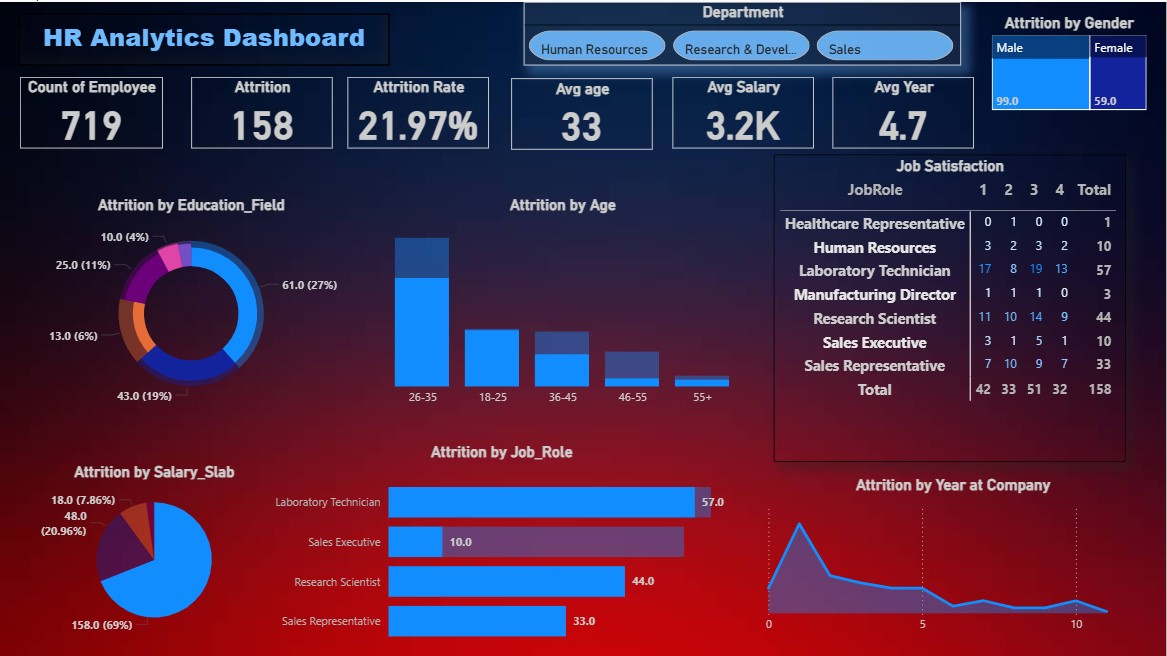

Layout of this report page (visuals, bound fields, positions):
{"tool":"powerbi","page":{"name":"Page 1","canvas":[1280,720],"ordinal":0},"visuals":[{"type":"card","title":"Count of Employee","fields":{"Values":["CountNonNull(HR_Analytics.EmpID)"]},"box":[21.4,82.7,156.8,78.4],"z":0},{"type":"card","title":"Attrition","fields":{"Values":["Sum(HR_Analytics.Attrition)"]},"box":[209.5,82.7,155.4,78.4],"z":1000},{"type":"card","title":"Attrition Rate","fields":{"Values":["HR_Analytics.AttritionRate"]},"box":[382,82.7,155.4,78.4],"z":2000},{"type":"card","title":"Avg age","fields":{"Values":["Avg(HR_Analytics.Age)"]},"box":[561.6,84.1,155.4,78.4],"z":3000},{"type":"card","title":"Avg Year","fields":{"Values":["Avg(HR_Analytics.YearsAtCompany)"]},"box":[913.7,82.7,155.4,78.4],"z":4000},{"type":"card","title":"Avg Salary","fields":{"Values":["Avg(HR_Analytics.MonthlyIncome)"]},"box":[738.3,82.3,155.1,78.2],"z":5000},{"type":"donutChart","title":" Attrition by Education_Field","fields":{"Category":["HR_Analytics.EducationField"],"Y":["Sum(HR_Analytics.Attrition)"]},"box":[21.4,212.4,376.3,239.5],"z":6000},{"type":"columnChart","title":" Attrition by Age","fields":{"Category":["HR_Analytics.AgeGroup"],"Y":["Sum(HR_Analytics.Attrition)"]},"box":[397.7,212.4,440.4,239.5],"z":7000},{"type":"pivotTable","title":"Job Satisfaction","fields":{"Rows":["HR_Analytics.JobRole"],"Columns":["HR_Analytics.JobSatisfaction"],"Values":["Sum(HR_Analytics.Attrition)"]},"box":[849.5,166.8,386.3,337.8],"z":8000},{"type":"pieChart","title":" Attrition by Salary_Slab","fields":{"Category":["HR_Analytics.SalarySlab"],"Y":["Sum(HR_Analytics.Attrition)"]},"box":[20.6,505,297.8,196.2],"z":9000},{"type":"clusteredBarChart","title":" Attrition by Job_Role","fields":{"Y":["Sum(HR_Analytics.Attrition)"],"Category":["HR_Analytics.JobRole"]},"box":[286.8,483,528.3,237.4],"z":10000},{"type":"areaChart","title":" Attrition by Year at Company","fields":{"Category":["HR_Analytics.YearsAtCompany"],"Y":["Sum(HR_Analytics.Attrition)"]},"box":[828.8,520.1,435,181.1],"z":11000},{"type":"treemap","title":" Attrition by Gender","fields":{"Group":["HR_Analytics.Gender"],"Values":["Sum(HR_Analytics.Attrition)"]},"box":[1084.1,12.3,179.8,111.1],"z":12000},{"type":"advancedSlicerVisual","fields":{"Values":["HR_Analytics.Department"]},"box":[575,0,480.3,70],"z":13000},{"type":"textbox","box":[20.6,12.3,407.5,57.6],"z":13001}]}

Visuals, with their boxes in screenshot pixels (x1, y1, x2, y2), scaled from the page's 1280x720 canvas onto the 1167x656 screenshot:
"Count of Employee" card: <bbox>20, 75, 162, 147</bbox>
"Attrition" card: <bbox>191, 75, 333, 147</bbox>
"Attrition Rate" card: <bbox>348, 75, 490, 147</bbox>
"Avg age" card: <bbox>512, 77, 654, 148</bbox>
"Avg Year" card: <bbox>833, 75, 975, 147</bbox>
"Avg Salary" card: <bbox>673, 75, 815, 146</bbox>
" Attrition by Education_Field" donutChart: <bbox>20, 194, 363, 412</bbox>
" Attrition by Age" columnChart: <bbox>363, 194, 764, 412</bbox>
"Job Satisfaction" pivotTable: <bbox>775, 152, 1127, 460</bbox>
" Attrition by Salary_Slab" pieChart: <bbox>19, 460, 290, 639</bbox>
" Attrition by Job_Role" clusteredBarChart: <bbox>261, 440, 743, 655</bbox>
" Attrition by Year at Company" areaChart: <bbox>756, 474, 1152, 639</bbox>
" Attrition by Gender" treemap: <bbox>988, 11, 1152, 112</bbox>
advancedSlicerVisual - HR_Analytics.Department: <bbox>524, 0, 962, 64</bbox>
textbox: <bbox>19, 11, 390, 64</bbox>
